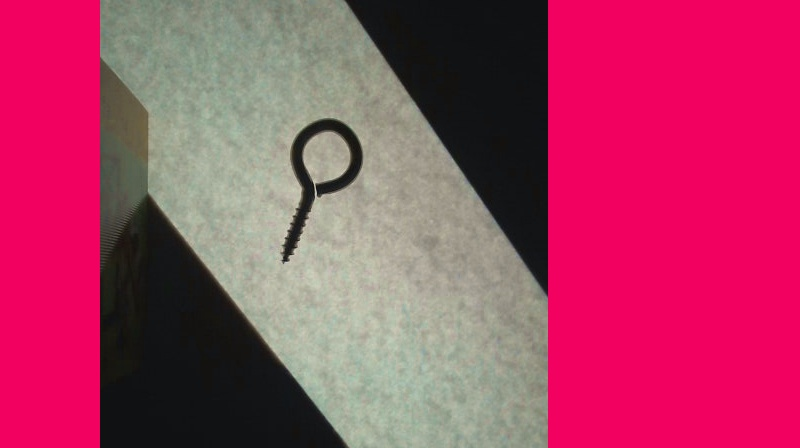O001: (275, 113, 363, 266)
